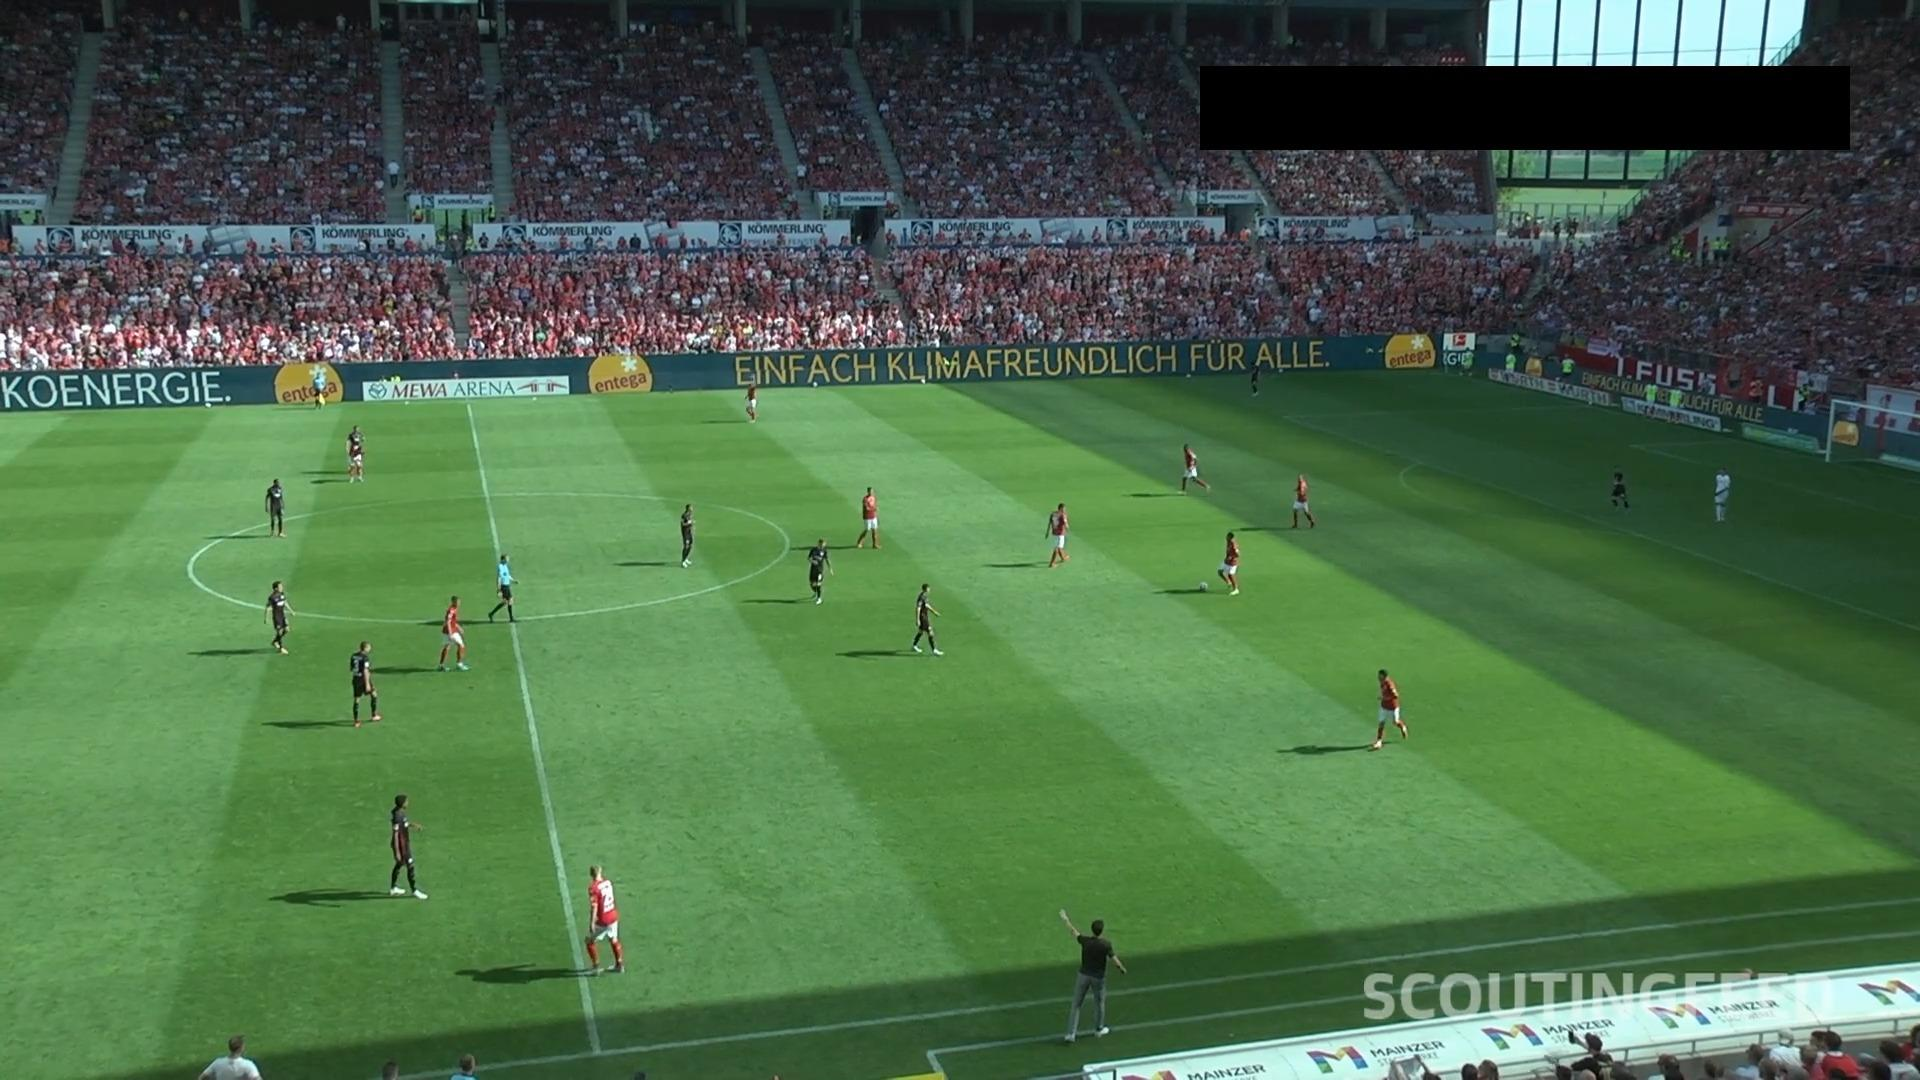ball: (1197, 582, 1209, 592)
